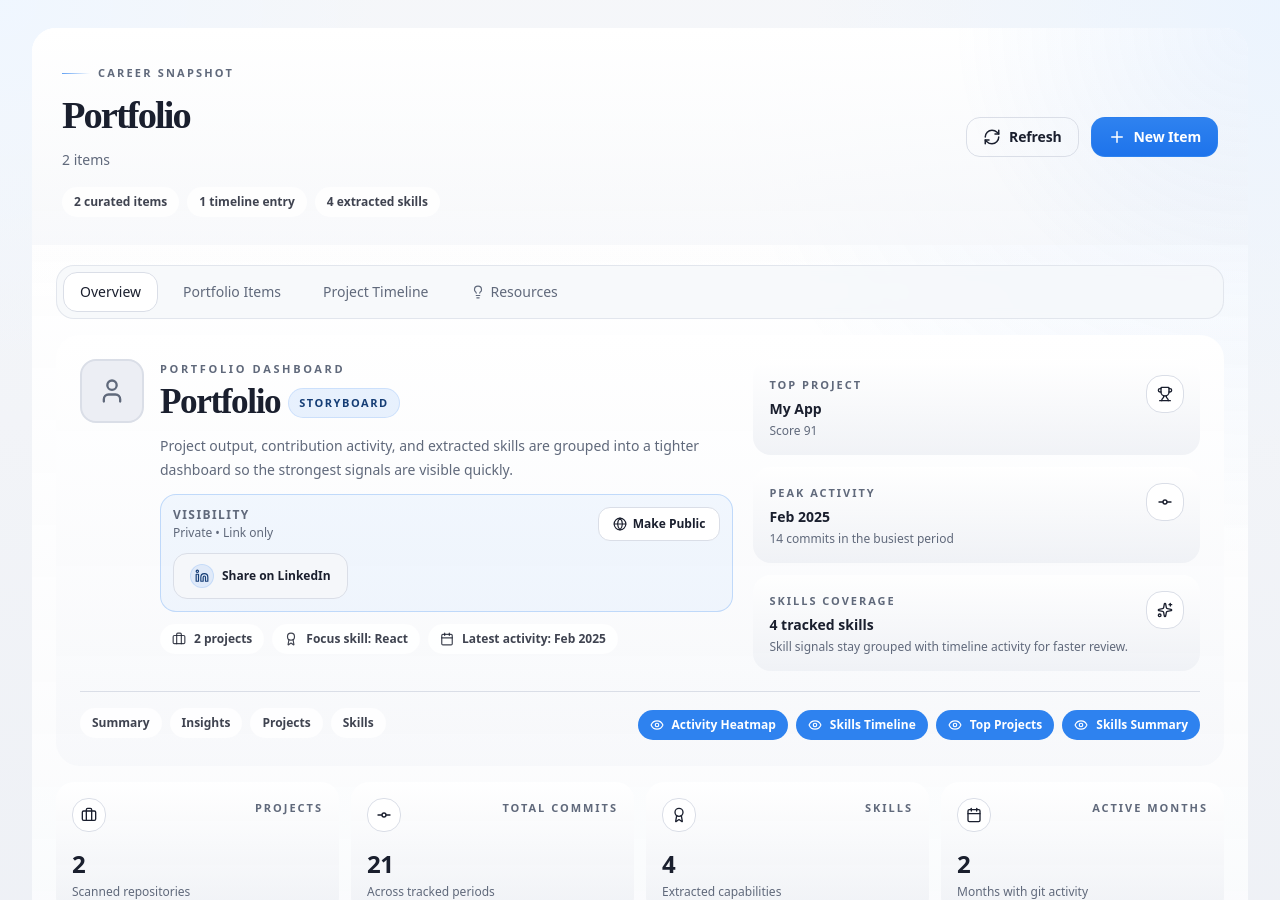
Test: PortfolioPage › renders portfolio items after load
Click the button "Portfolio Items".
click(232, 292)  # box [166,272,298,312]
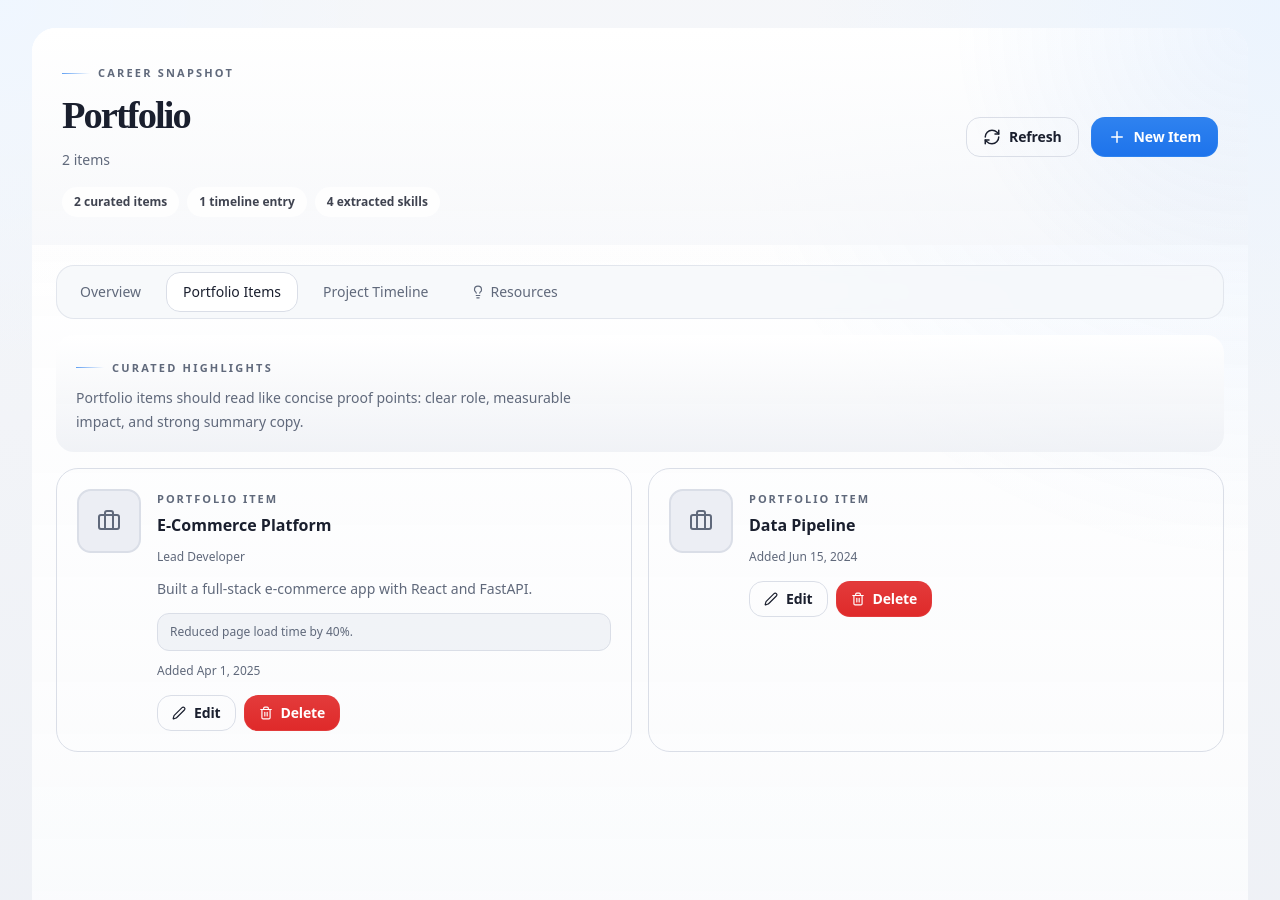
Result: the text "E-Commerce Platform" is shown at [157,514,332,536]
Result: the text "Data Pipeline" is shown at [749,514,856,536]
